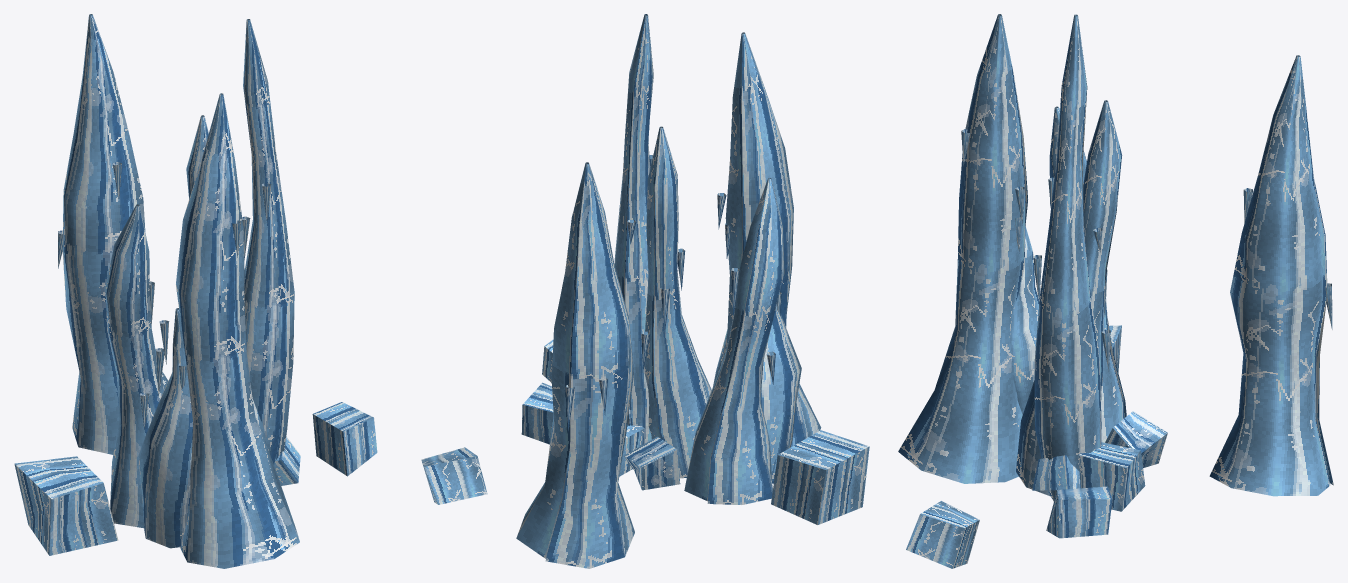
The model's file is prop_ice_pillars.glb.
3 views of the same model, side by side, from view 1: azimuth 30°, elevation 25°; view 2: azimuth 150°, elevation 25°; view 3: azimuth 270°, elevation 25° (orthographic). The views are drawn at different scales.
Parts seen in each view (by area): view 1: prop_ice_pillars; view 2: prop_ice_pillars; view 3: prop_ice_pillars.
Boxes of the visible parts, x1,y1,x2,y2 form: prop_ice_pillars: (14, 14, 487, 568); prop_ice_pillars: (516, 14, 869, 568); prop_ice_pillars: (898, 14, 1333, 568).
Bounding box in the file's own units: 6.93 × 8.25 × 6.68.
Materials: 1 (1 with a texture image).
